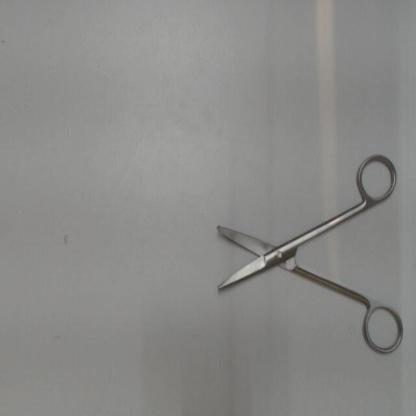Curved Mayo Scissors: (212, 147, 408, 363)
